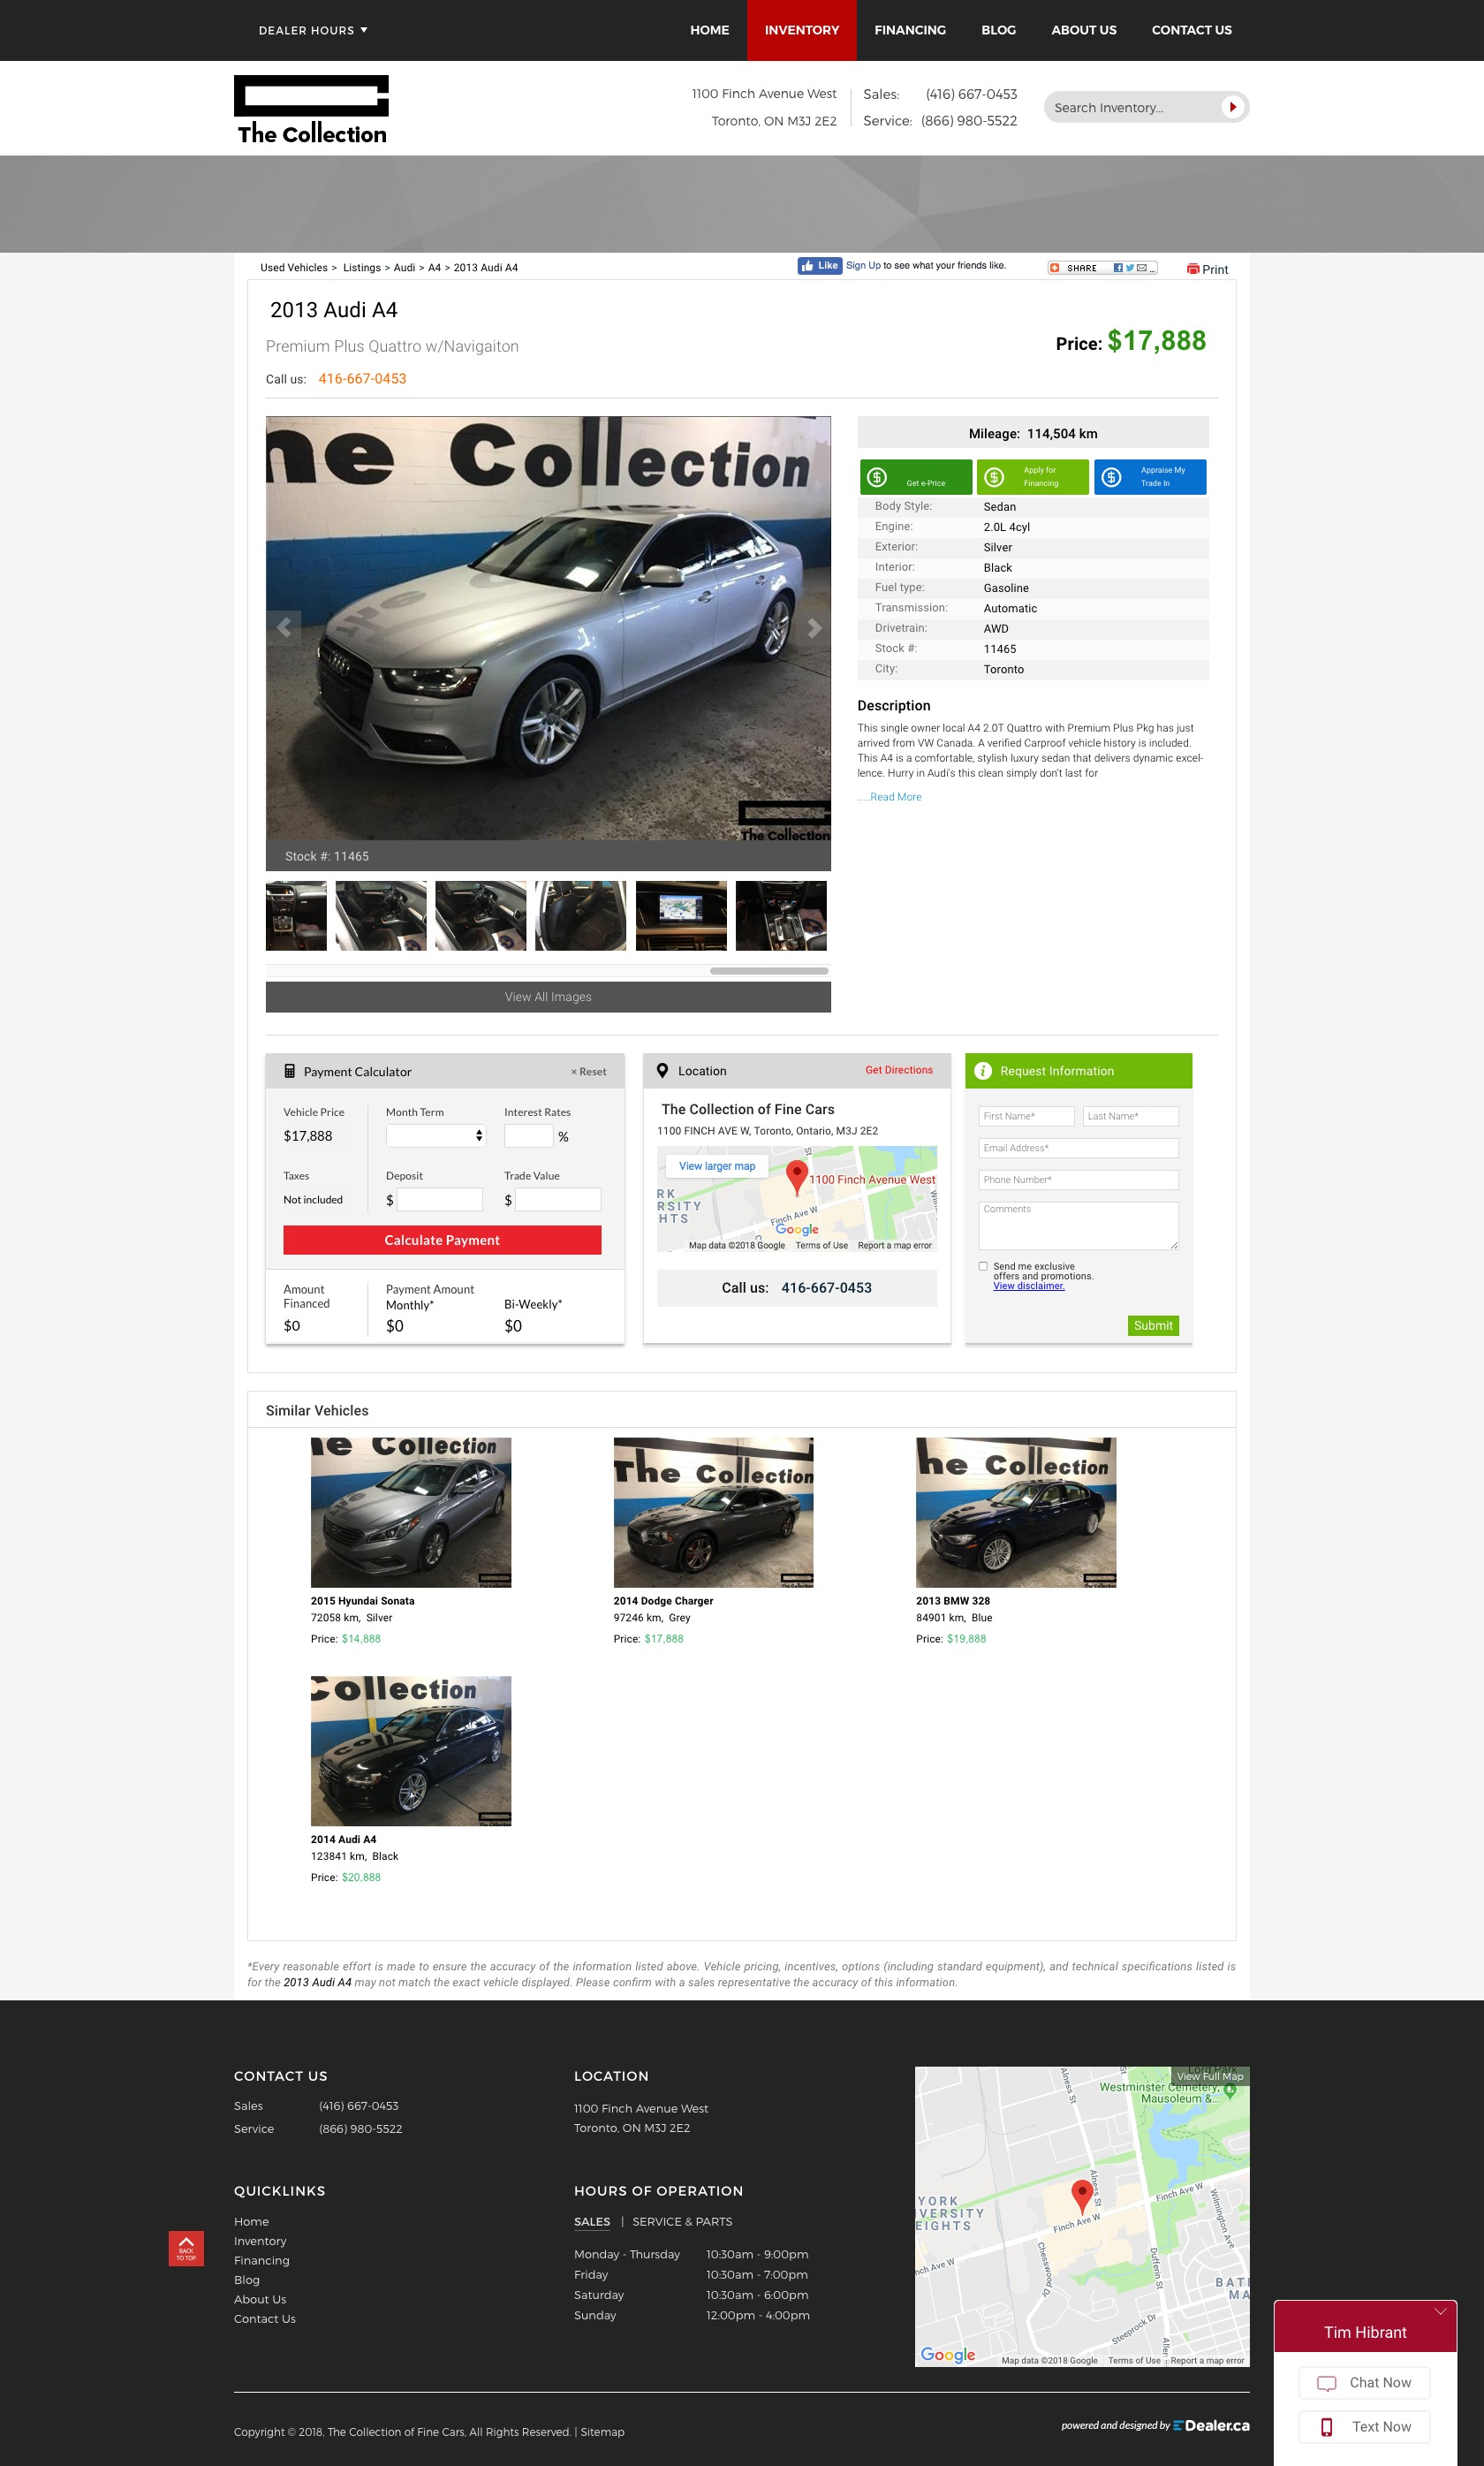car: (796, 613, 833, 650)
